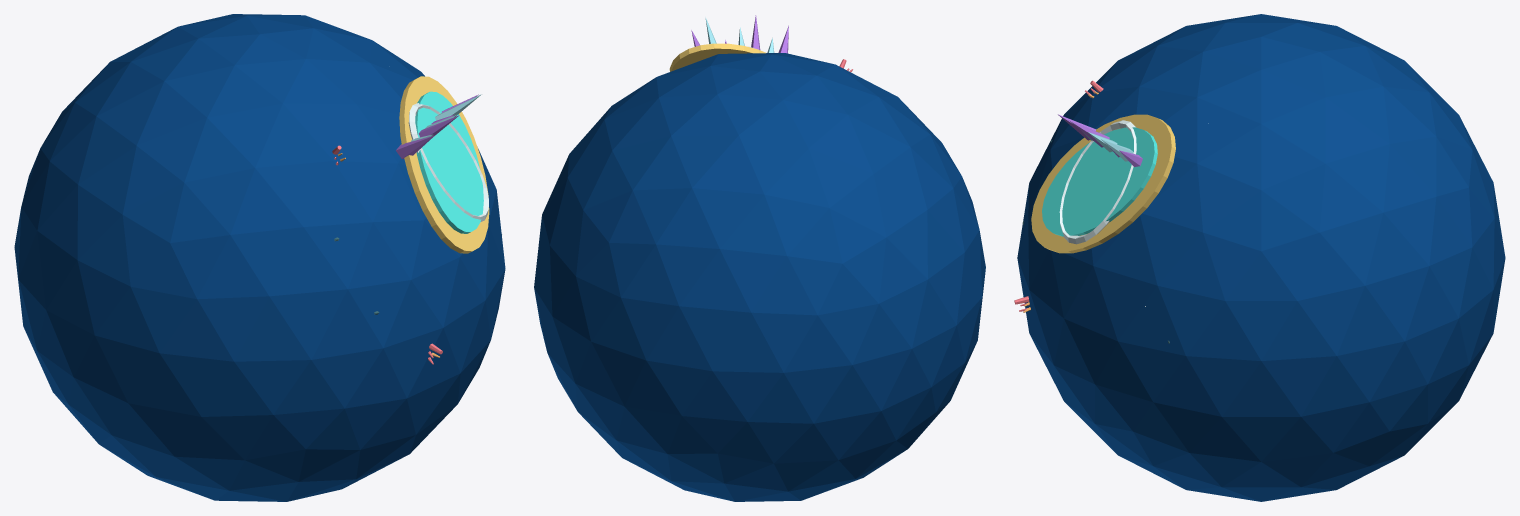
Rendered from Ocean_02.fbx.
The picture shows the model from 3 angles, left to right: view 1: azimuth 30°, elevation 25°; view 2: azimuth 150°, elevation 25°; view 3: azimuth 270°, elevation 25°; orthographic projection. The views are drawn at different scales.
Parts seen in each view (by area): view 1: Ocean_02; view 2: Ocean_02; view 3: Ocean_02.
Part boxes in pixels (x1=…): Ocean_02: x1=14, y1=14, x2=505, y2=501; Ocean_02: x1=534, y1=15, x2=985, y2=501; Ocean_02: x1=1014, y1=14, x2=1505, y2=501.
Size of the model in its own units: 6 by 6 by 6.04.
1 material, 1 textured.
